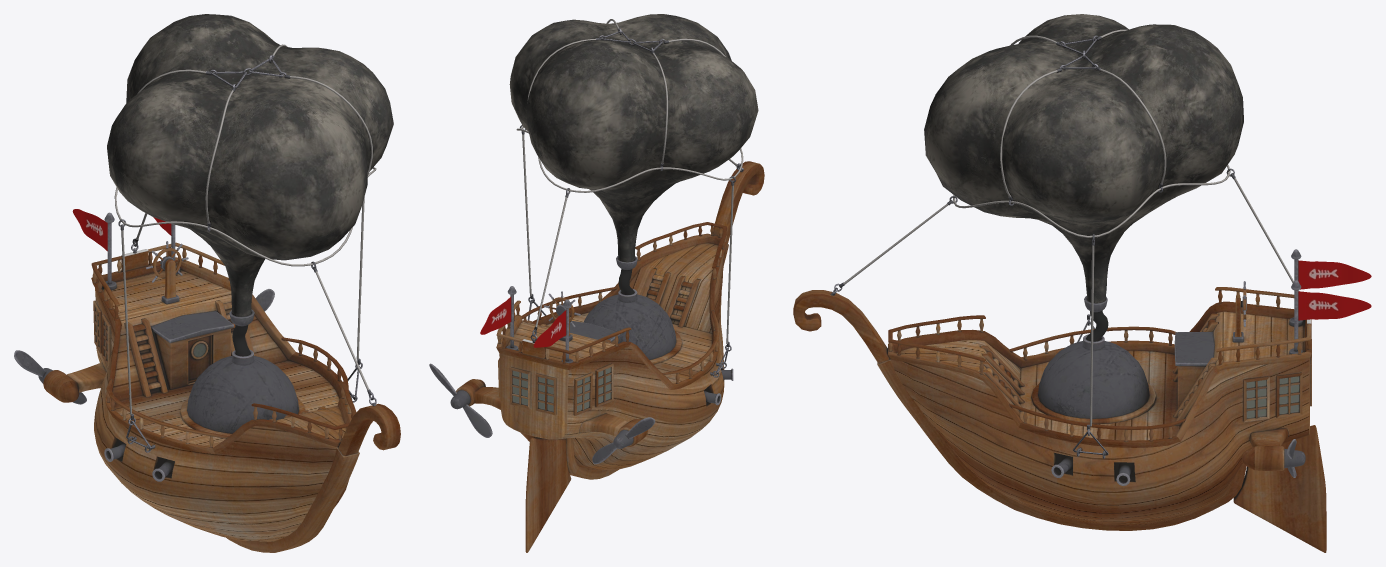
Rendered from baloon_ship_2.glb.
The picture shows the model from 3 angles, left to right: view 1: azimuth 30°, elevation 25°; view 2: azimuth 150°, elevation 25°; view 3: azimuth 270°, elevation 25°; orthographic projection. The views are drawn at different scales.
Parts seen in each view (by area): view 1: Object_2, Object_4, Object_3; view 2: Object_2, Object_4, Object_3; view 3: Object_2, Object_4, Object_3.
Part boxes in pixels (box(x1,y1,x2,y2)): Object_2: box(14, 209, 400, 552); Object_4: box(107, 14, 393, 452); Object_3: box(93, 300, 111, 366); Object_2: box(429, 161, 764, 552); Object_4: box(509, 14, 758, 377); Object_3: box(498, 358, 613, 415); Object_2: box(793, 249, 1371, 552); Object_4: box(830, 14, 1299, 458); Object_3: box(1243, 339, 1311, 422).
Bounding box in the file's own units: 3.63 × 6.89 × 6.93.
Materials: 2 (2 with a texture image).
